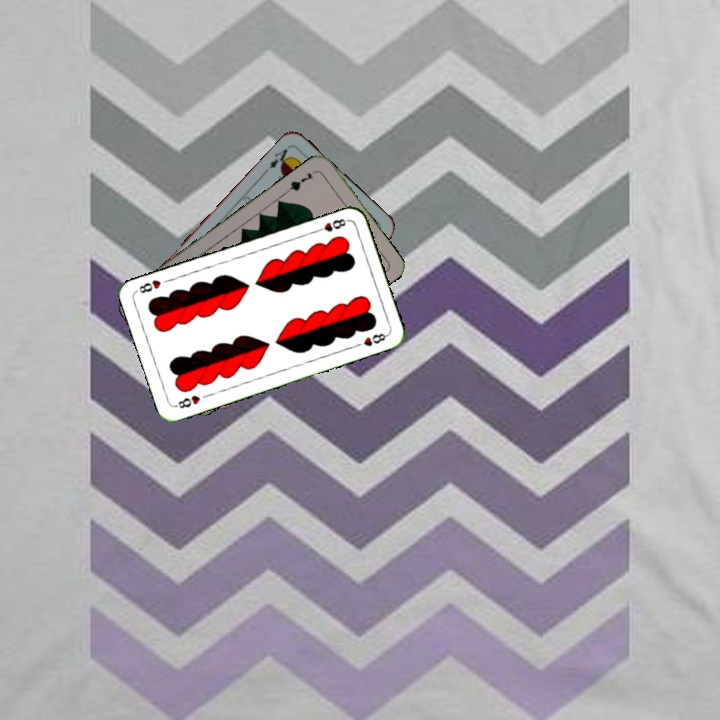EA: (264, 142, 294, 171)
G7: (284, 169, 316, 195)
H8: (311, 215, 351, 235), (171, 391, 203, 411)
